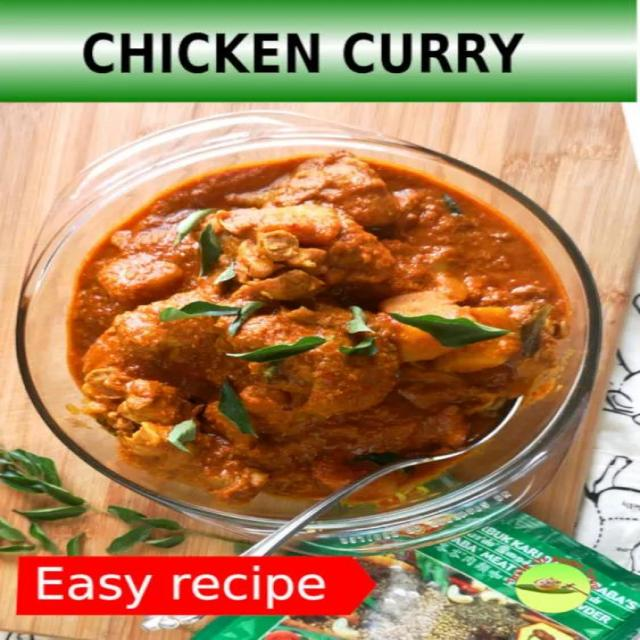chicken: (71, 162, 554, 514)
